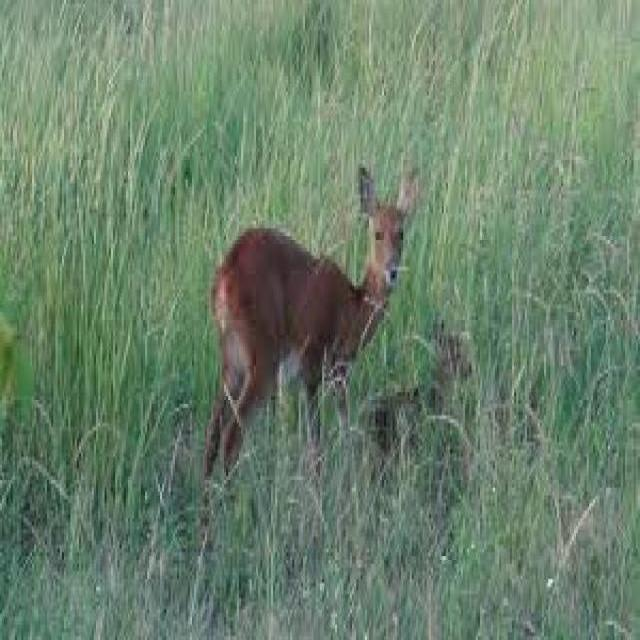deer: (192, 124, 430, 563)
